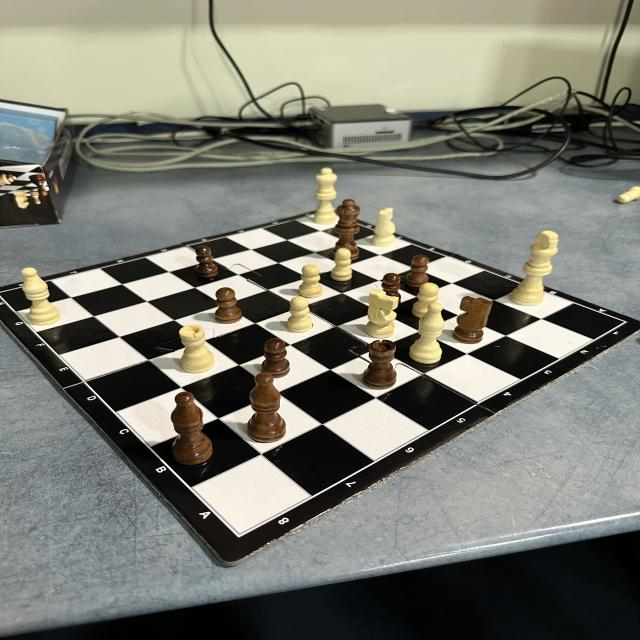Black-Bishop: (170, 391, 214, 466), (247, 372, 288, 443)
Black-Knight: (451, 296, 494, 344)
Black-Pawn: (214, 287, 244, 324), (261, 337, 291, 374), (194, 245, 218, 278), (406, 254, 430, 282), (381, 272, 402, 292)
Black-Queen: (334, 198, 362, 249)
Black-Rook: (362, 340, 397, 390)
White-Bishop: (19, 267, 62, 326), (409, 302, 445, 364)
White-King: (510, 229, 560, 306)
White-Knight: (364, 289, 400, 338), (371, 207, 398, 247)
White-Pawn: (287, 296, 314, 333), (298, 264, 324, 298), (330, 248, 353, 282), (416, 283, 439, 302)
White-Queen: (312, 167, 338, 224)
White-Rook: (178, 324, 216, 373)
